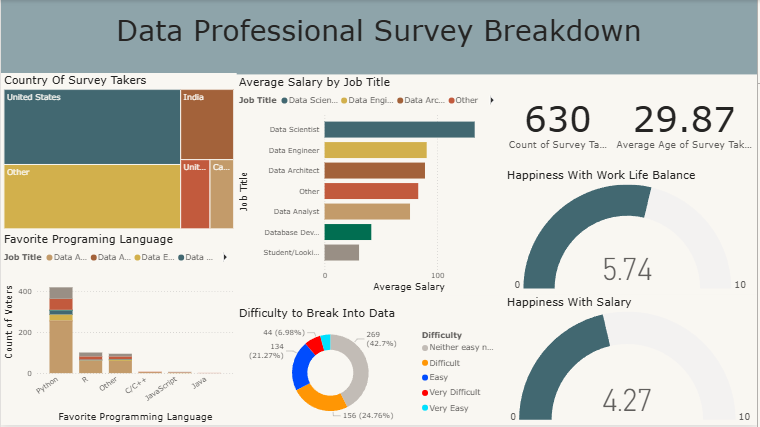

This screenshot's page, from the dashboard's own definition file:
{"tool":"powerbi","page":{"name":"Page 1","canvas":[1280,720],"ordinal":0},"visuals":[{"type":"textbox","box":[0,0,1280,125.5],"z":0},{"type":"card","fields":{"Values":["Count(Data Professional Survey.Unique ID)"]},"box":[852.1,126.2,182.9,159.1],"z":1000},{"type":"card","fields":{"Values":["Avg(Data Professional Survey.Q10 - Current Age)"]},"box":[1035,126.2,245,159.1],"z":2000},{"type":"barChart","title":"Average Salary by Job Title","fields":{"Category":["Data Professional Survey.Q1 - Which Title Best Fits your Current Role?"],"Y":["Avg(Data Professional Survey.Average Salary)"],"Series":["Data Professional Survey.Q1 - Which Title Best Fits your Current Role?"]},"box":[398.6,126.2,453.5,373],"z":3000},{"type":"columnChart","title":"Favorite Programing Language","fields":{"Category":["Data Professional Survey.Q5 - Favorite Programming Language"],"Y":["CountNonNull(Data Professional Survey.Unique ID)"],"Series":["Data Professional Survey.Q1 - Which Title Best Fits your Current Role?"]},"box":[0,393.1,398.6,327.3],"z":4000},{"type":"treemap","title":"Country Of Survey Takers","fields":{"Group":["Data Professional Survey.Q11 - Which Country do you live in?"],"Values":["CountNonNull(Data Professional Survey.Q11 - Which Country do you live in?)"]},"box":[0,124.3,398.6,268.8],"z":5000},{"type":"gauge","title":"Happiness With Work Life Balance","fields":{"Y":["Avg(Data Professional Survey.Q6 - How Happy are you in your Current Position with the following? (Work/Life Balance))"],"MinValue":["Min(Data Professional Survey.Q6 - How Happy are you in your Current Position with the following? (Work/Life Balance))1"],"MaxValue":["Max(Data Professional Survey.Q6 - How Happy are you in your Current Position with the following? (Work/Life Balance))2"]},"box":[852.1,285.3,427.9,213.9],"z":6000},{"type":"gauge","title":"Happiness With Salary","fields":{"Y":["Avg(Data Professional Survey.Q6 - How Happy are you in your Current Position with the following? (Salary))"],"MinValue":["Min(Data Professional Survey.Q6 - How Happy are you in your Current Position with the following? (Salary))1"],"MaxValue":["Max(Data Professional Survey.Q6 - How Happy are you in your Current Position with the following? (Salary))2"]},"box":[852.1,499.2,427.9,221.3],"z":7000},{"type":"donutChart","title":"Difficulty to Break Into Data","fields":{"Category":["Data Professional Survey.Q7 - How difficult was it for you to break into Data?"],"Y":["CountNonNull(Data Professional Survey.Q7 - How difficult was it for you to break into Data?)"]},"box":[398.6,517.5,453.5,203],"z":8000}]}

Visuals, with their boxes in screenshot pixels (x1, y1, x2, y2), scaled from the page's 1280x720 canvas onto the 760x427 screenshot:
textbox: <region>0, 0, 759, 74</region>
card - Count(Data Professional Survey.Unique ID): <region>506, 75, 615, 169</region>
card - Avg(Data Professional Survey.Q10 - Current Age): <region>615, 75, 759, 169</region>
"Average Salary by Job Title" barChart: <region>237, 75, 506, 296</region>
"Favorite Programing Language" columnChart: <region>0, 233, 237, 426</region>
"Country Of Survey Takers" treemap: <region>0, 74, 237, 233</region>
"Happiness With Work Life Balance" gauge: <region>506, 169, 759, 296</region>
"Happiness With Salary" gauge: <region>506, 296, 759, 426</region>
"Difficulty to Break Into Data" donutChart: <region>237, 307, 506, 426</region>
